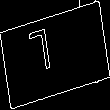L_S: (42, 27, 68, 83)
